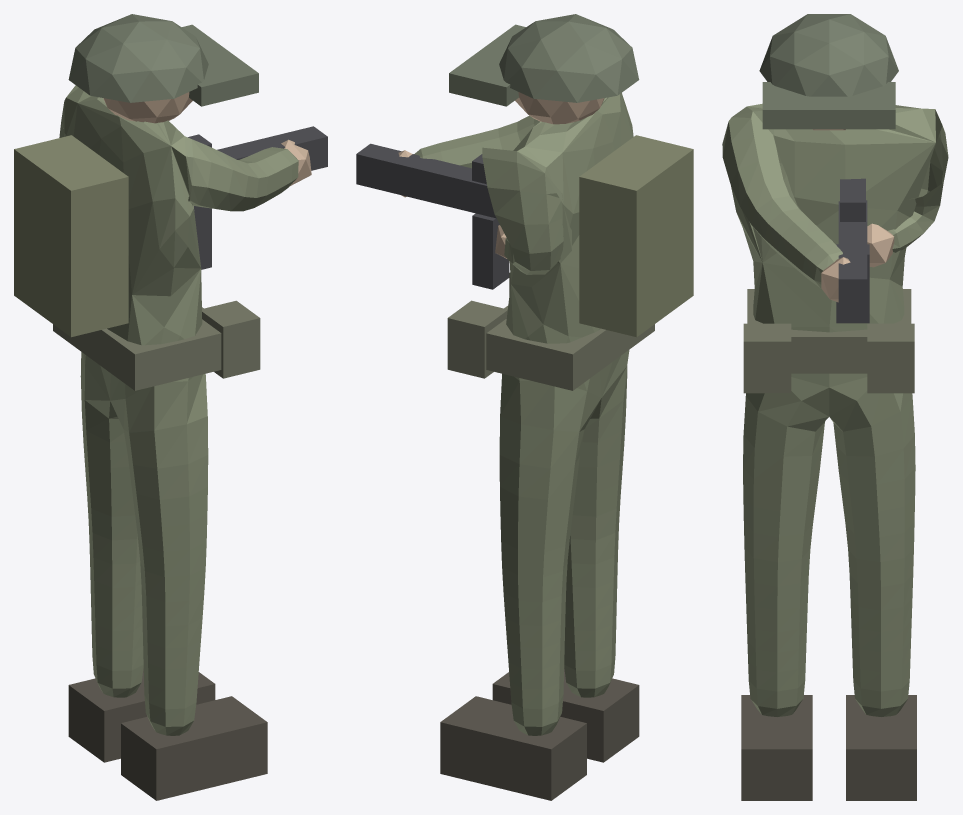
The model's file is trooper_fr.glb.
3 renders of one model, left to right at view 1: azimuth 30°, elevation 25°; view 2: azimuth 150°, elevation 25°; view 3: azimuth 270°, elevation 25°, orthographic.
Parts seen in each view (by area): view 1: trooper_fr; view 2: trooper_fr; view 3: trooper_fr.
Part boxes in pixels (x1,y1,x2,y2): trooper_fr: (14,14,327,800); trooper_fr: (356,14,693,800); trooper_fr: (722,14,948,800).
Size of the model in its own units: 0.705 by 1.72 by 0.4759.
